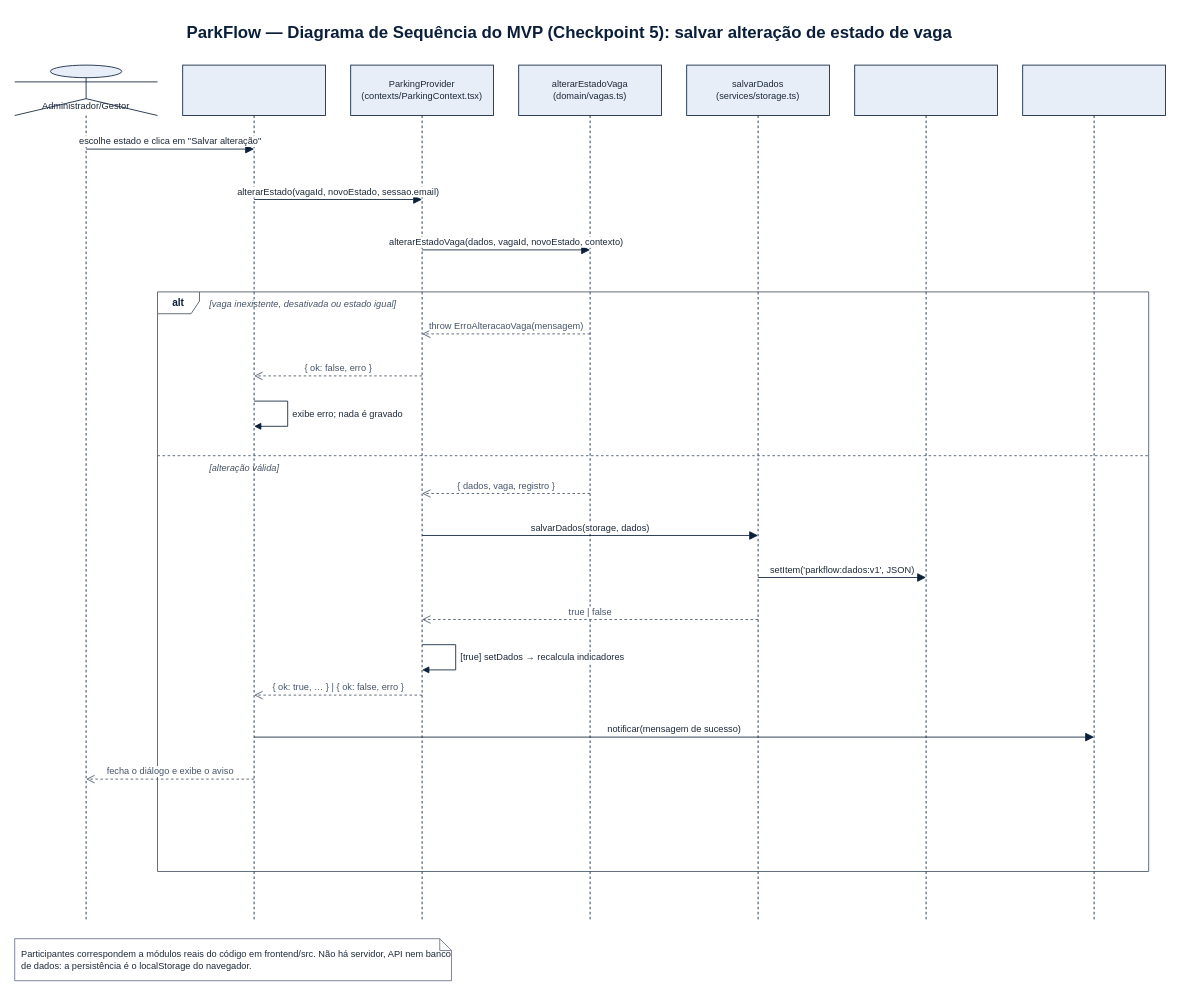
The diagram is 1180 pixels wide and 995 high, and some of its shapes have lost their labels. The box of each missing label's shape, as (x1, y1, x2, y2) in pixels:
localStorage (navegador): (854, 64, 998, 922)
ModalVaga (components/ModalVaga.tsx): (182, 64, 326, 922)
ToastProvider (contexts/ToastContext.tsx): (1022, 64, 1166, 922)
